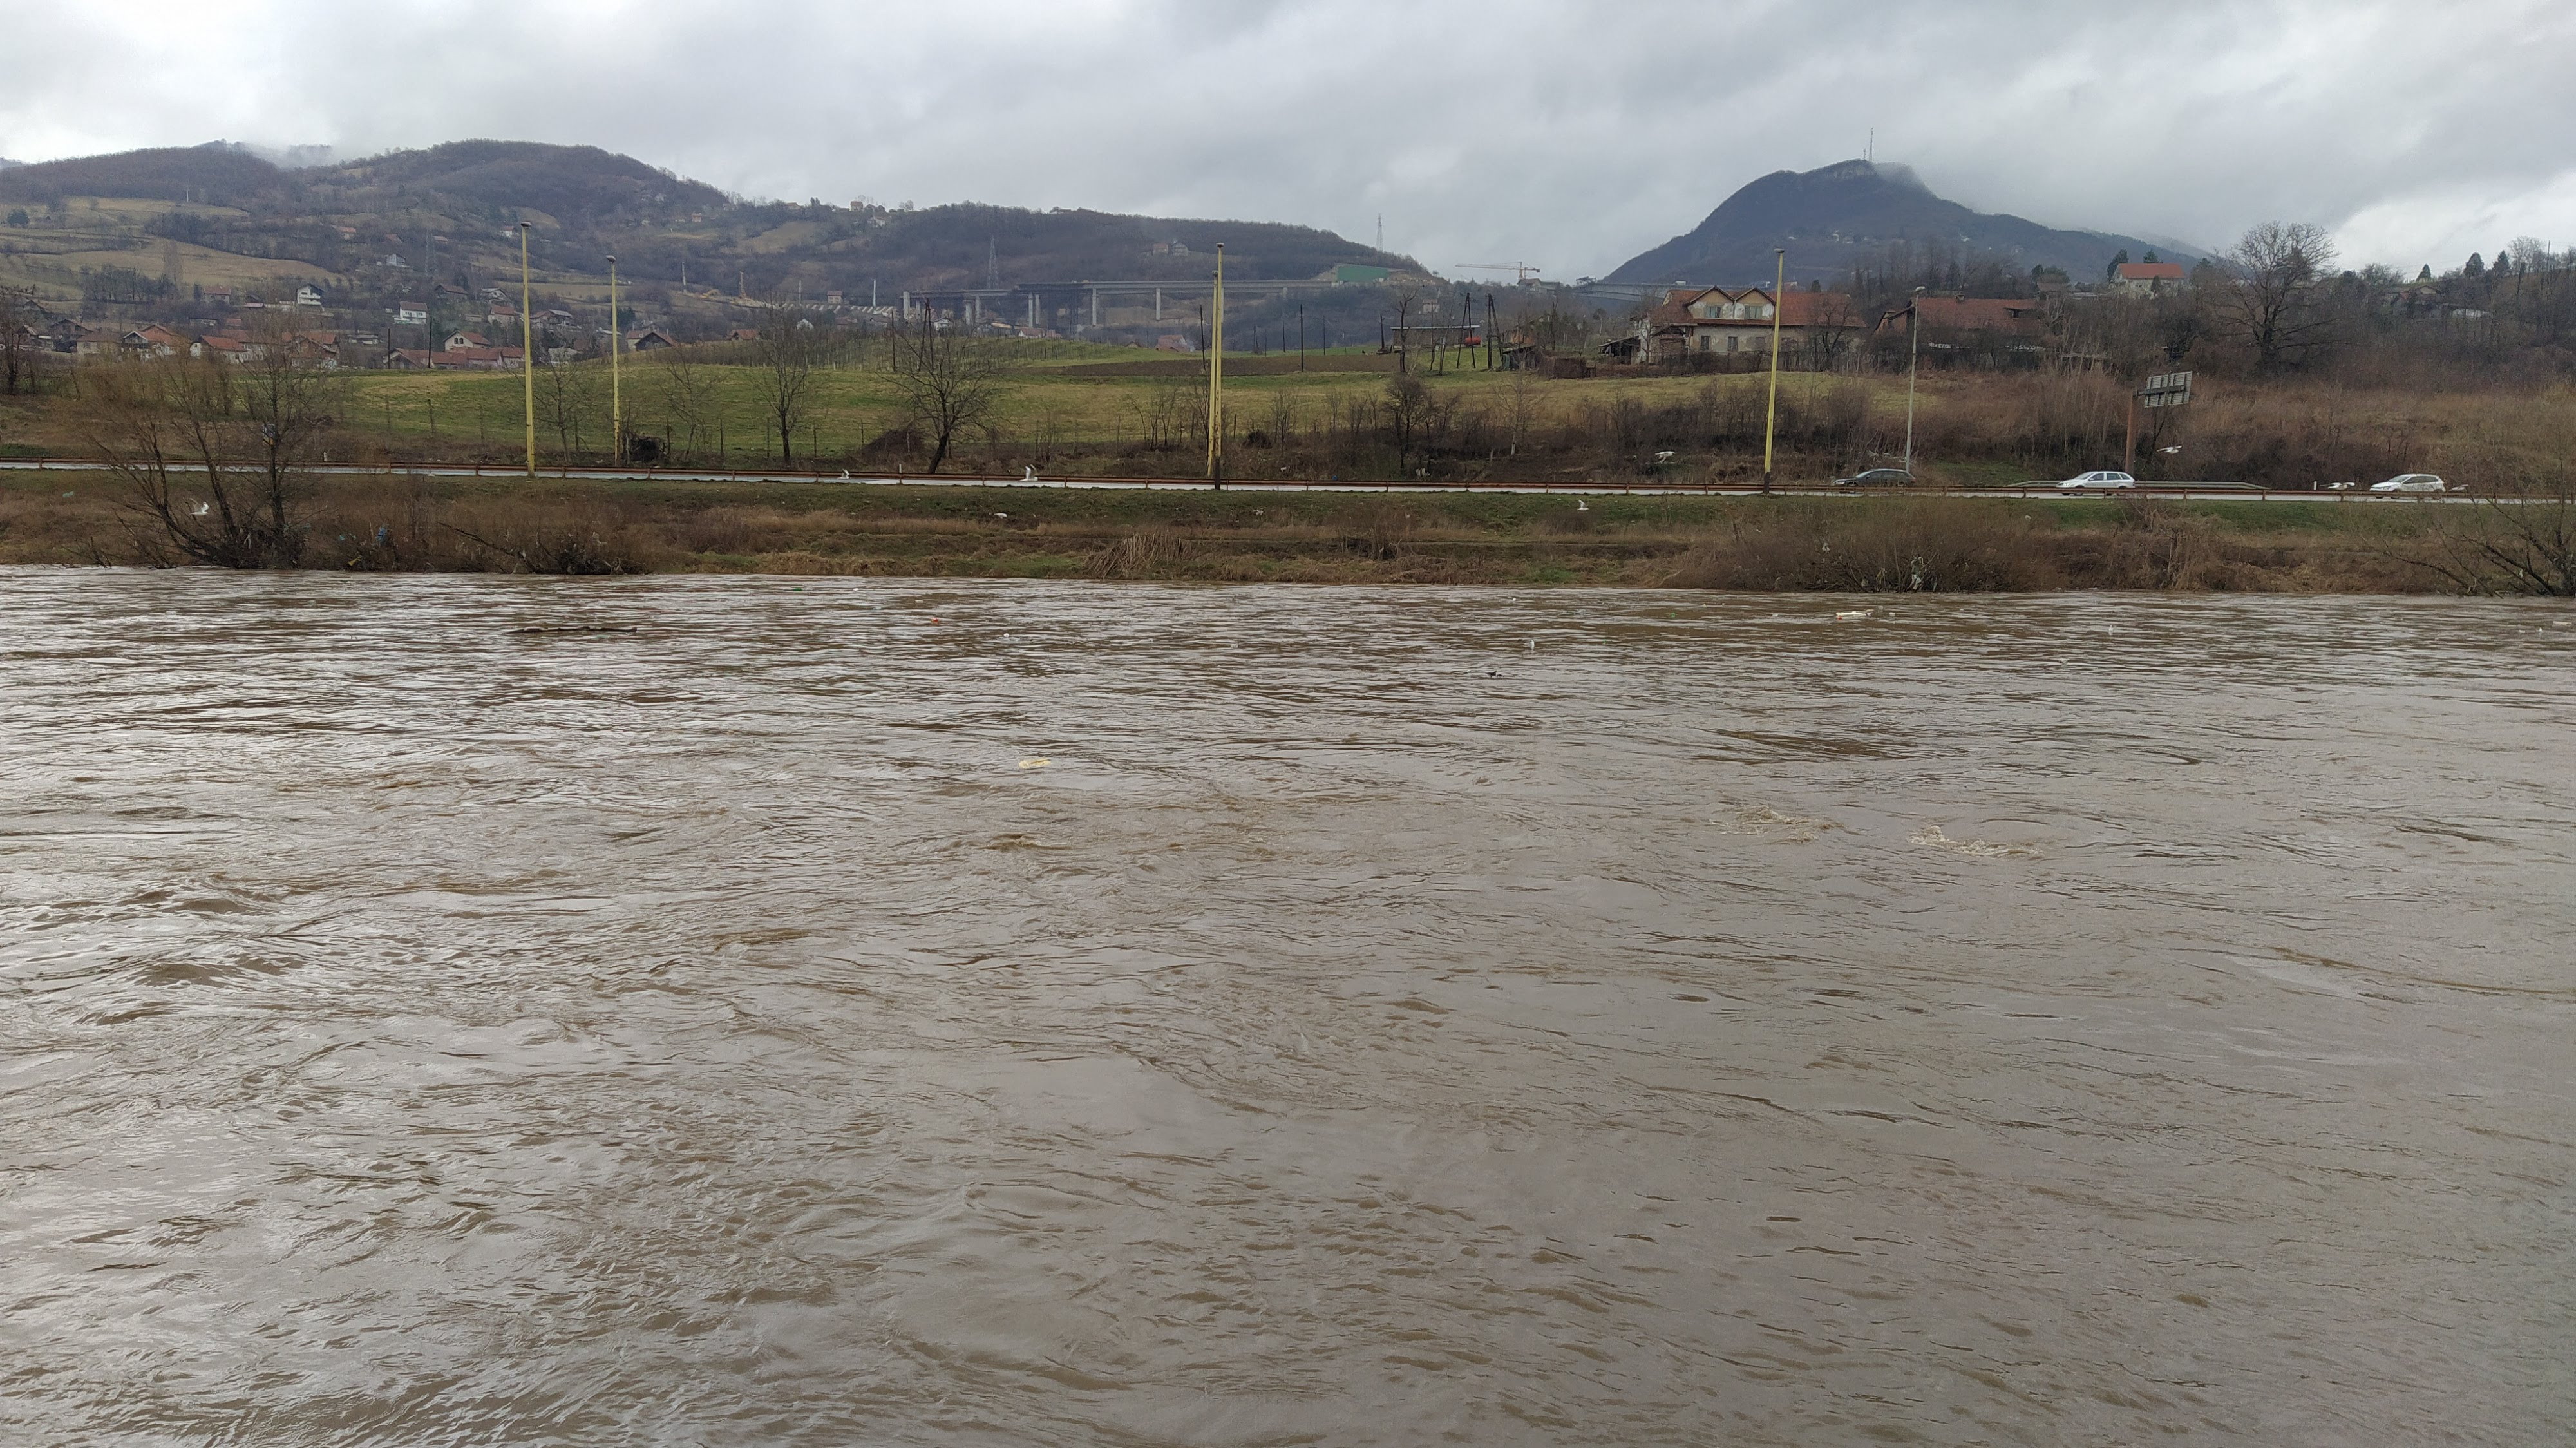Plastic Bottle: (165, 611, 175, 614), (308, 600, 317, 604), (874, 607, 881, 611), (916, 598, 922, 602), (1836, 616, 1842, 620), (793, 588, 801, 589), (1670, 612, 1674, 616), (932, 618, 936, 620)
